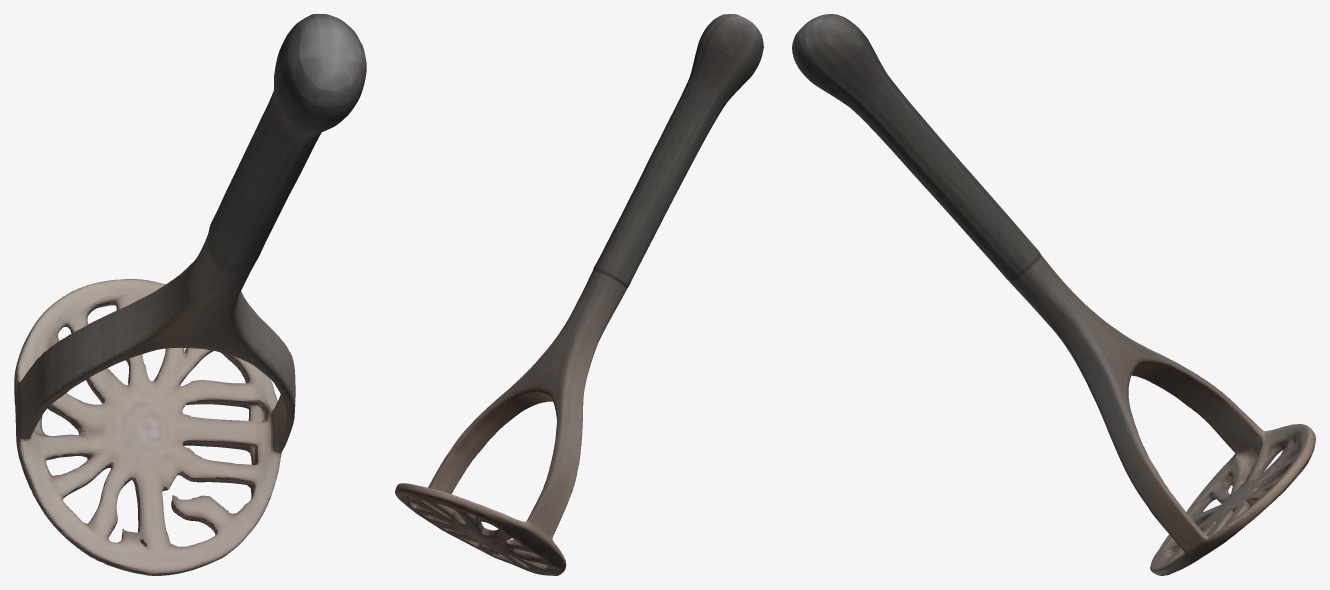
The model's file is frame_0039_source_000039_object.glb.
3 renders of one model, left to right at view 1: azimuth 30°, elevation 25°; view 2: azimuth 150°, elevation 25°; view 3: azimuth 270°, elevation 25°, orthographic. The views are drawn at different scales.
Visible parts, largest first — view 1: world; view 2: world; view 3: world.
Part boxes in pixels (x1,y1,x2,y2): world: (14,14,366,575); world: (395,14,763,575); world: (792,14,1315,575).
Size of the model in its own units: 0.0848 by 0.2185 by 0.2008.
